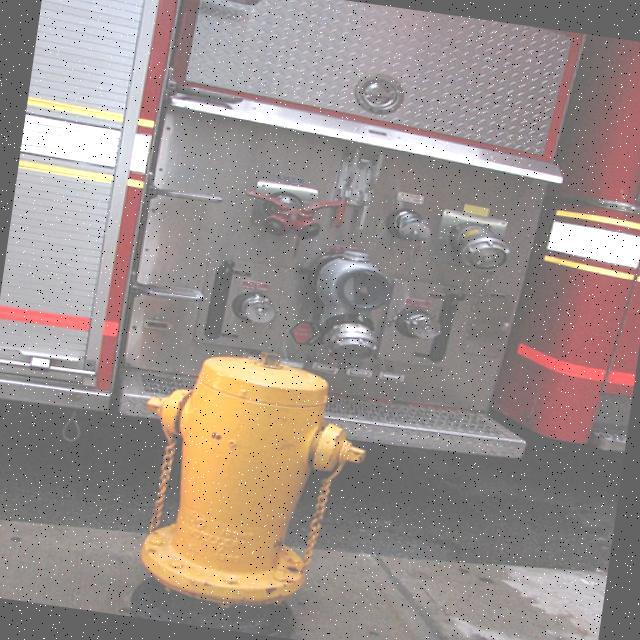fire_hydrant: (122, 338, 374, 616)
